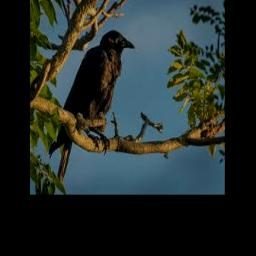Crow: (49, 30, 135, 181)
